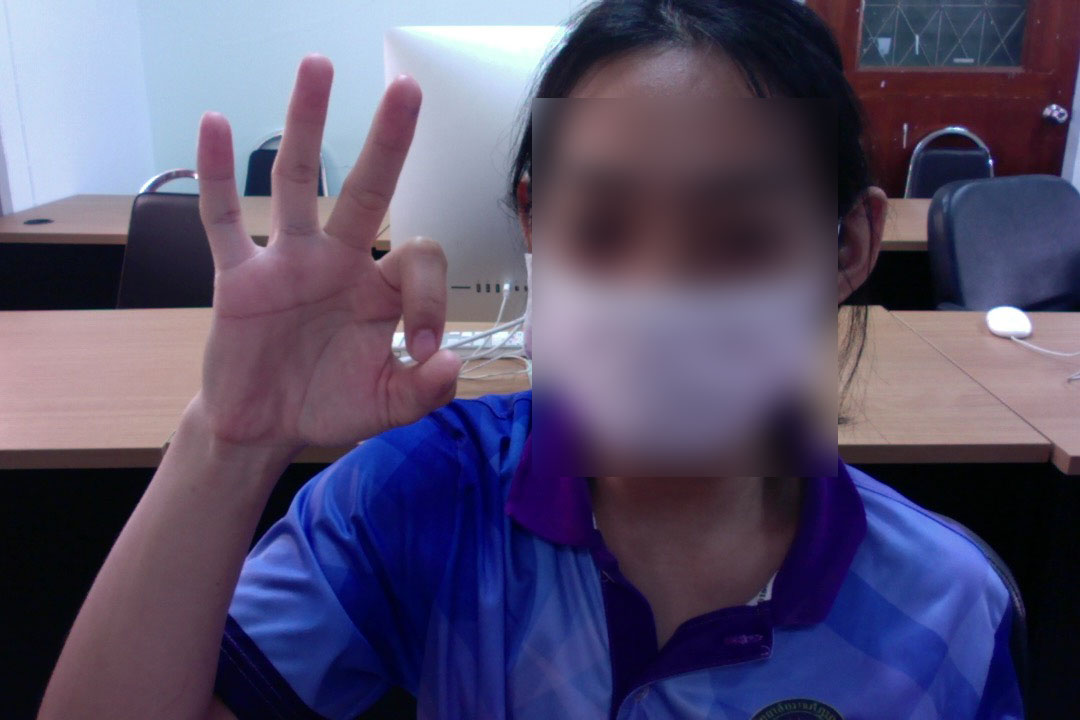for: (166, 46, 466, 471)
